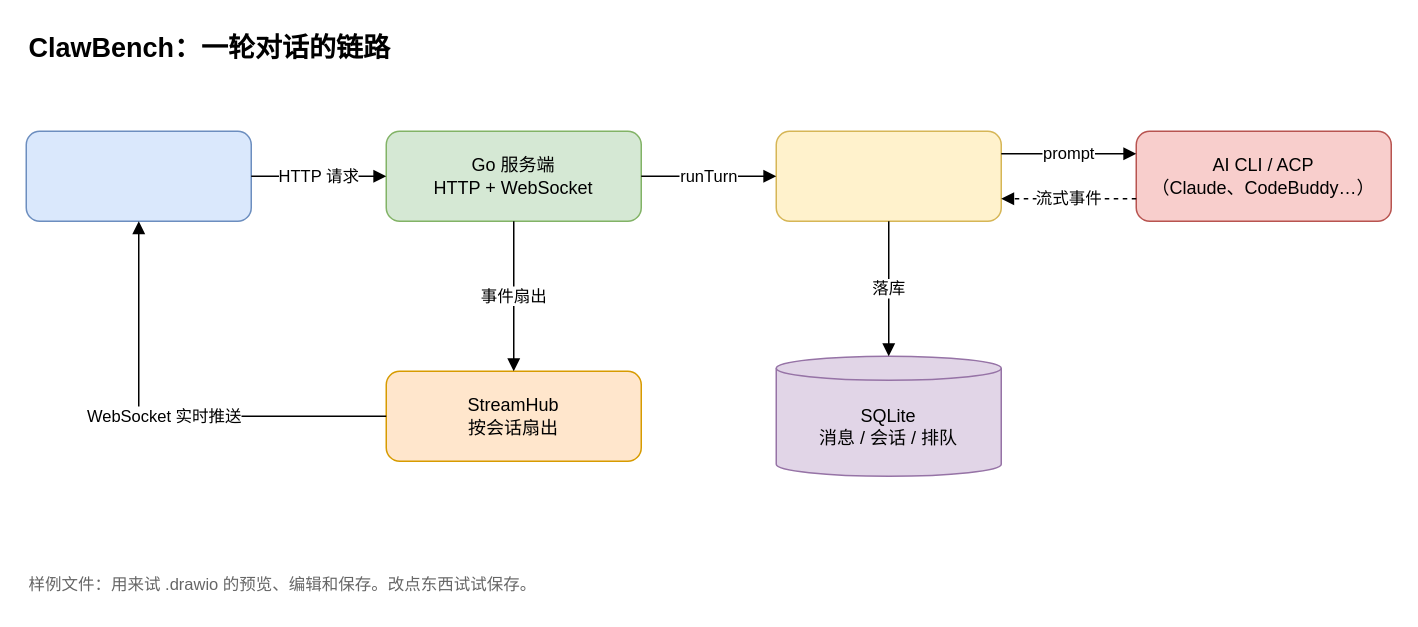
Some shapes in this 1418 by 627 pixel diagram are drawn without their labels. Here are the shapes that lost their labels. From the top down, the centre of each, then its label:
At point (138, 175): "客户端 浏览器 / 手机 / 桌面".
At point (888, 175): "会话 runner".
